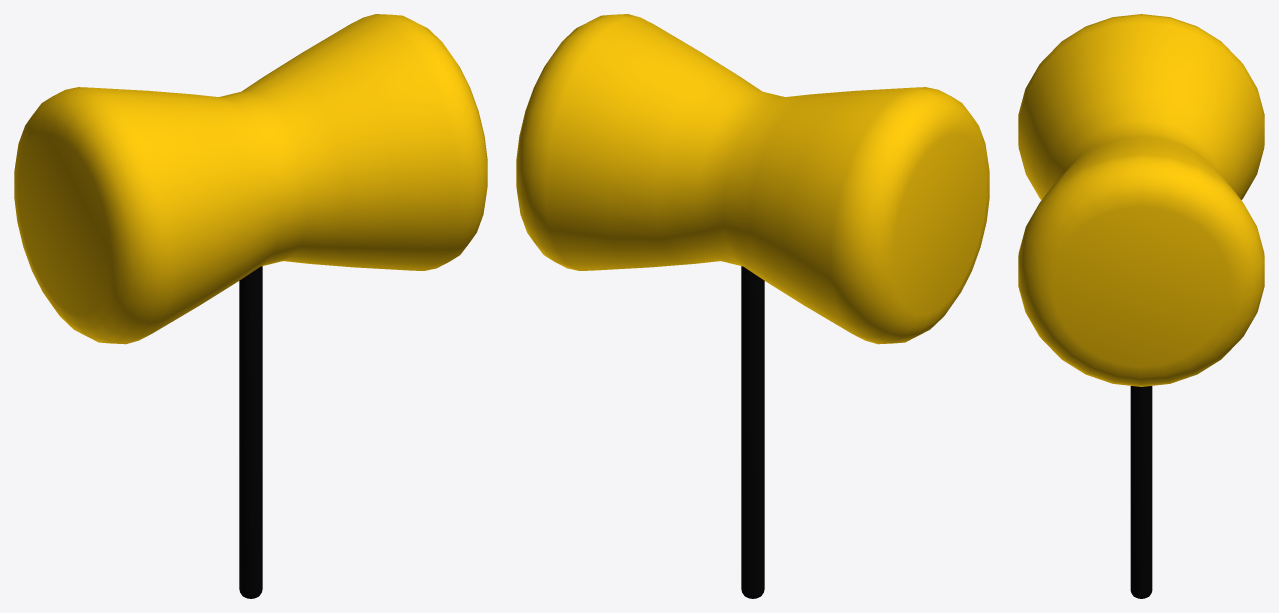
Rendered from ob_hammer.fbx.
3 views of the same model, side by side, from view 1: azimuth 30°, elevation 25°; view 2: azimuth 150°, elevation 25°; view 3: azimuth 270°, elevation 25° (orthographic). The views are drawn at different scales.
Visible parts, largest first — view 1: hammer; view 2: hammer; view 3: hammer.
Part boxes in pixels (x1,y1,x2,y2): hammer: (14,14,487,598); hammer: (516,14,989,598); hammer: (1018,14,1264,598).
Bounding box in the file's own units: 225 × 308 × 135.
